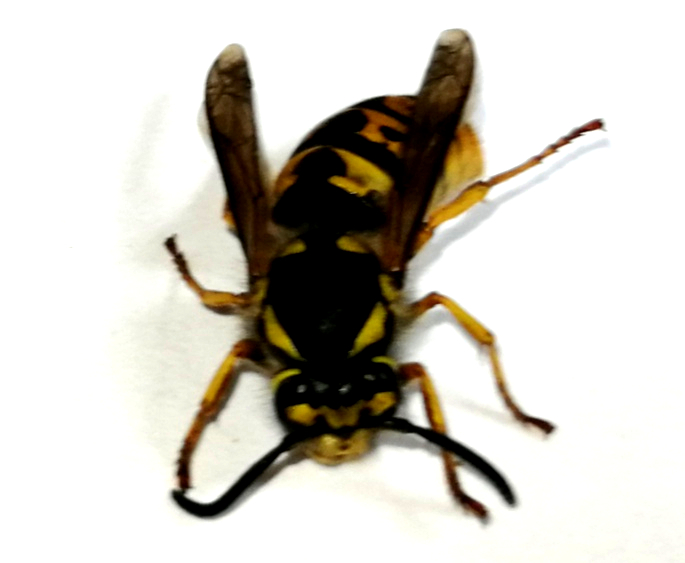chax: (147, 11, 623, 537)
